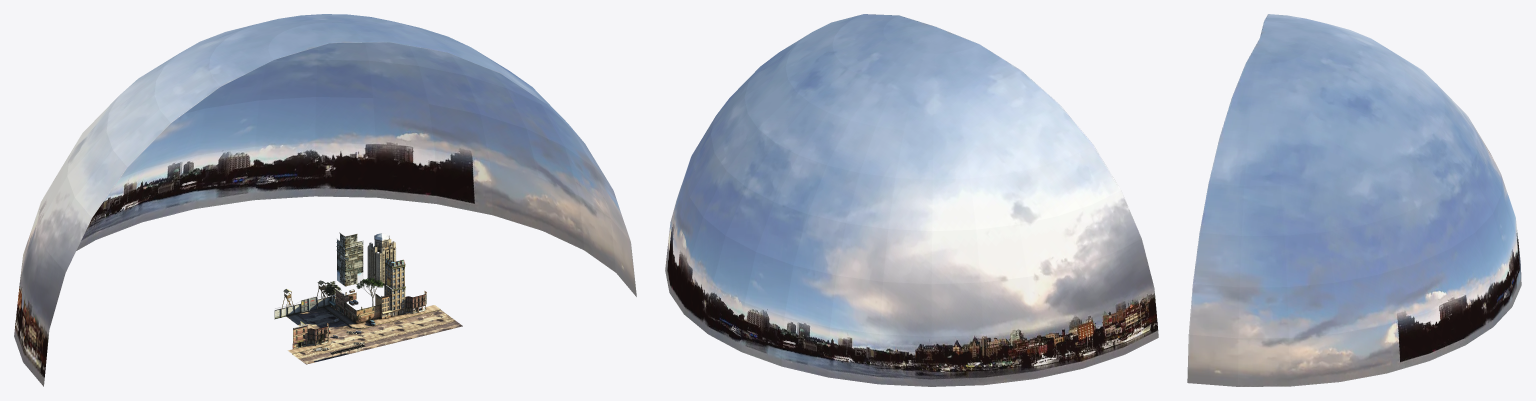
The model's file is apocalyptic_city-transformed.glb.
3 renders of one model, left to right at view 1: azimuth 30°, elevation 25°; view 2: azimuth 150°, elevation 25°; view 3: azimuth 270°, elevation 25°, orthographic. The views are drawn at different scales.
Parts seen in each view (by area): view 1: Object_13, Object_20, Object_16, Object_26, Object_25, Object_17; view 2: Object_13; view 3: Object_13.
Boxes of the visible parts, box(x1,y1,x2,y2) form: Object_13: box(14, 14, 636, 386); Object_20: box(286, 305, 462, 364); Object_16: box(336, 232, 396, 286); Object_26: box(384, 258, 426, 316); Object_25: box(344, 293, 392, 323); Object_17: box(274, 280, 330, 319); Object_13: box(665, 14, 1158, 386); Object_13: box(1187, 14, 1521, 386).
Bounding box in the file's own units: 7509 × 3767 × 4793.
24 materials, 23 textured.
